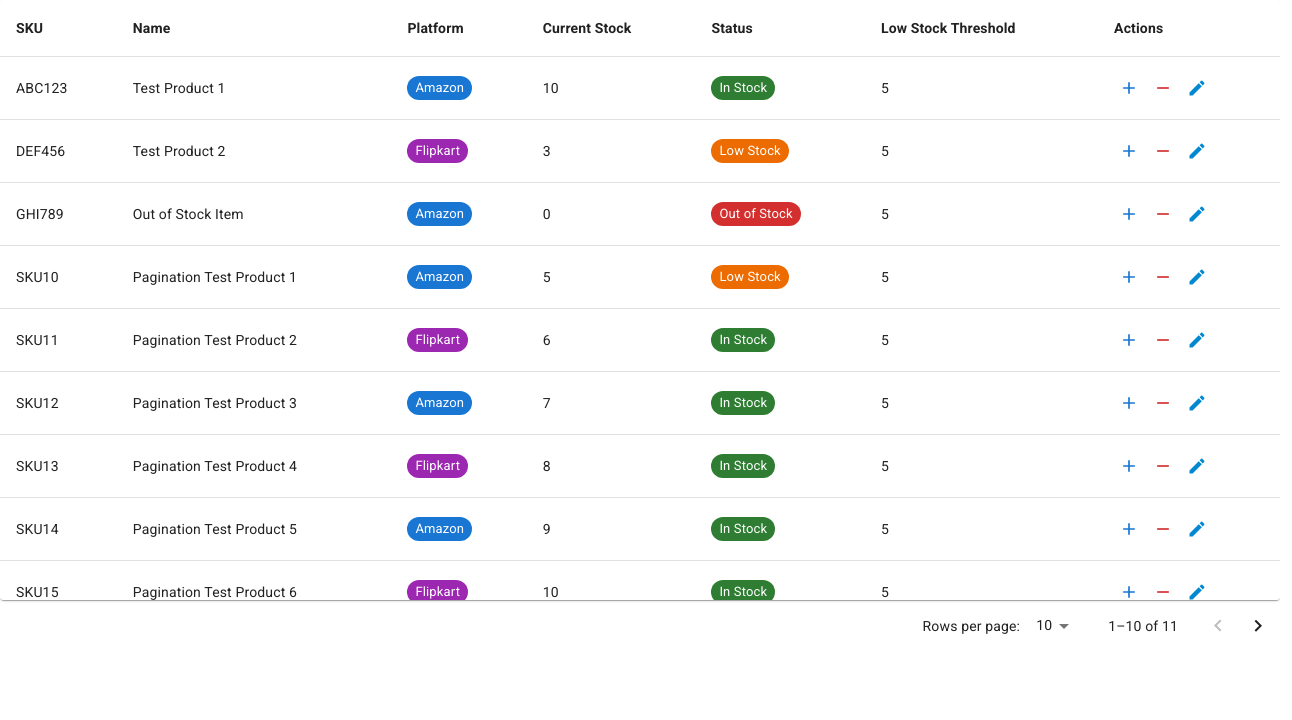
Scenario: InventoryTable › handles pagination correctly
Go to next page
Click the button named "next page": {"x": 1258, "y": 626} [1238,606,1278,646]
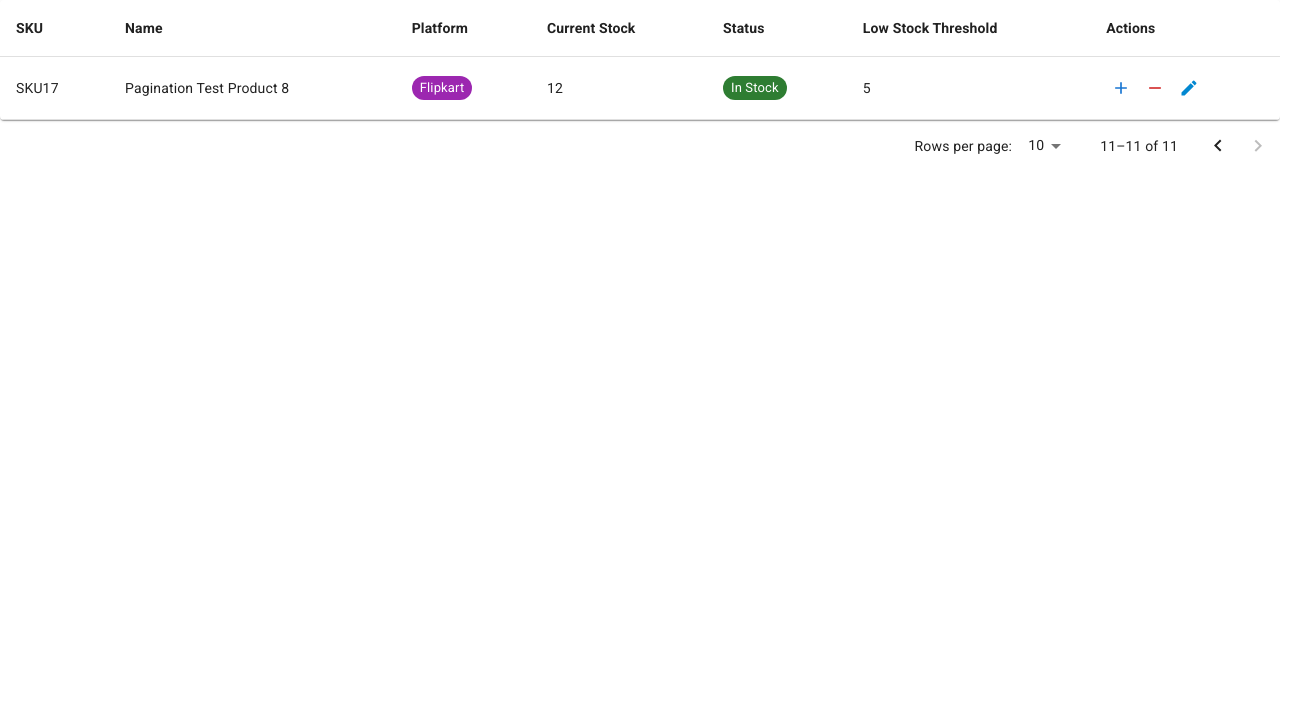
Result: the number of rows is 2 at [0,0,1280,57]; [0,57,1280,120]
Change rows per page
Click the dropdown: {"x": 1036, "y": 145} [1028,137,1044,153]
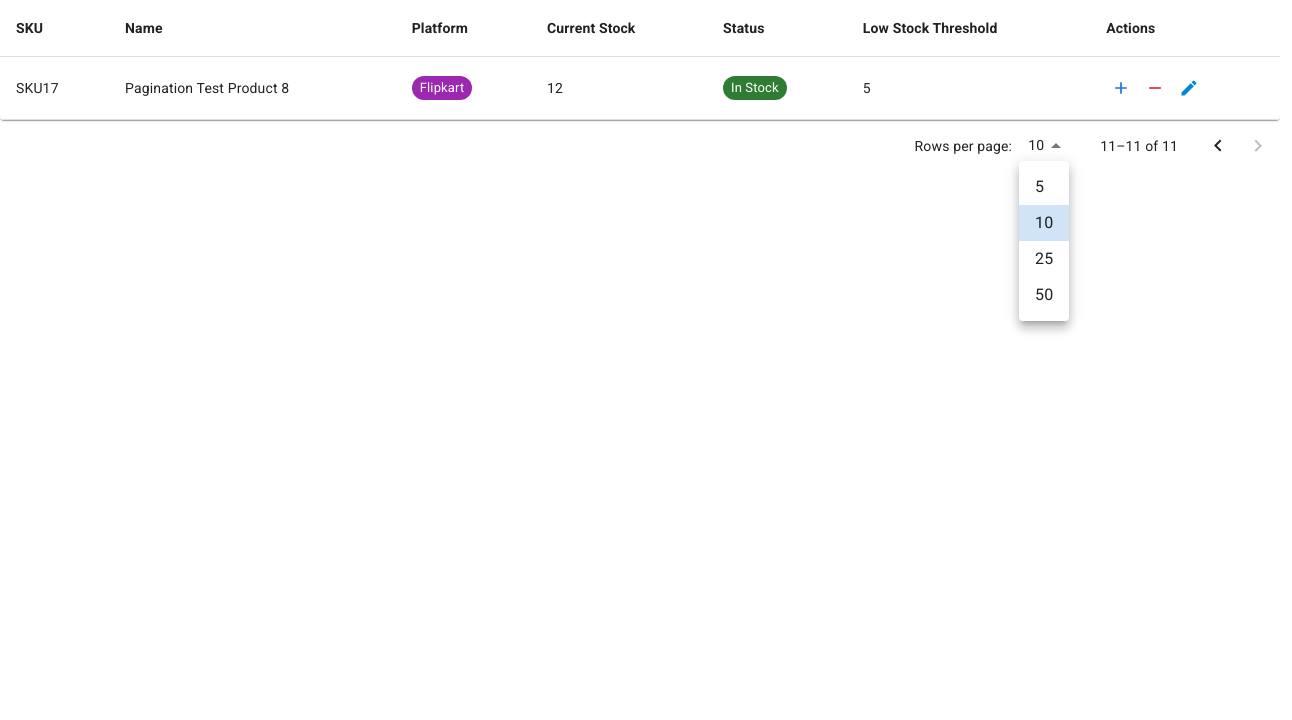
Click the option "5": {"x": 1040, "y": 186} [1035,177,1044,196]
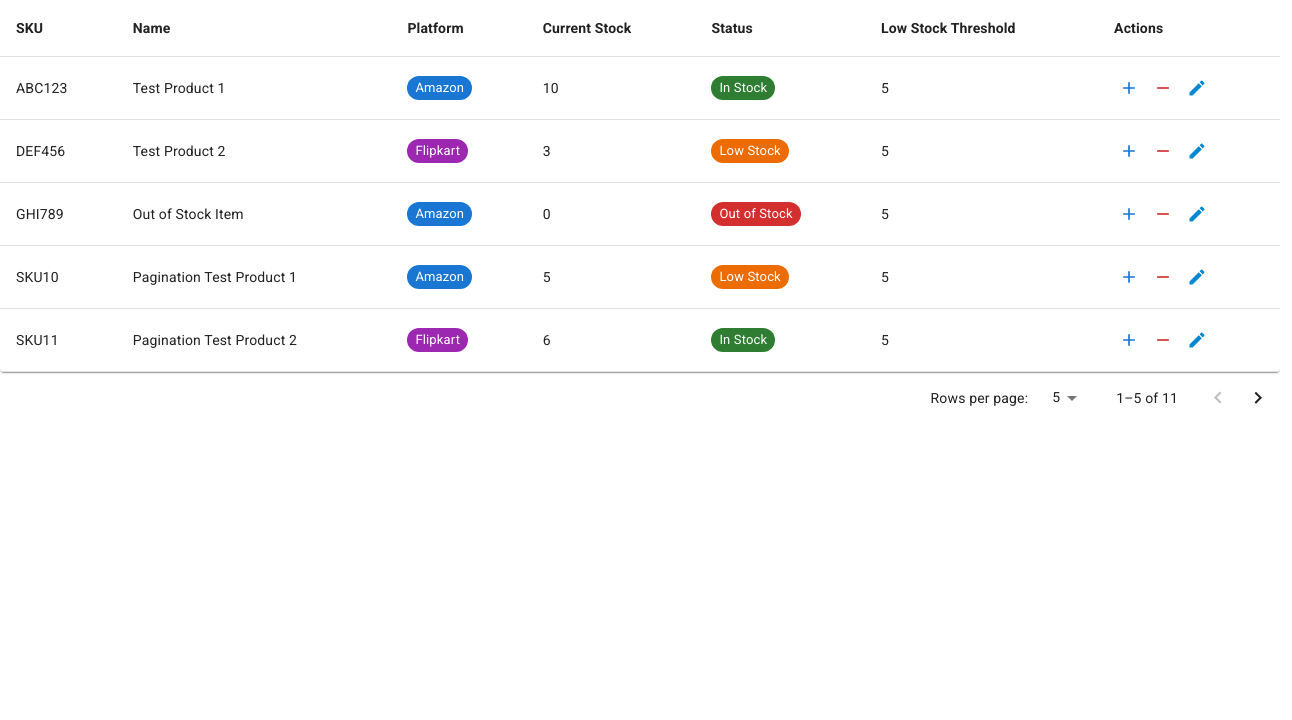
Result: the number of rows is 6 at [0,0,1280,57]; [0,57,1280,120]; [0,120,1280,183]; [0,183,1280,246]; [0,246,1280,309]; [0,309,1280,372]
